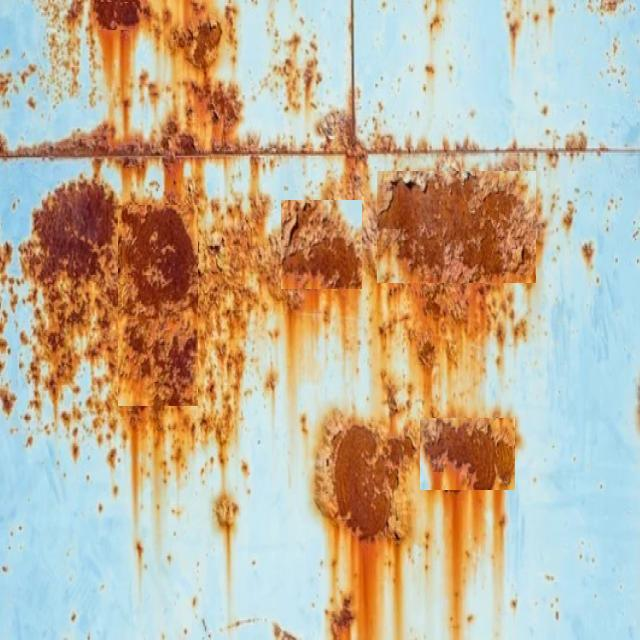Corrosion: (19, 156, 546, 610), (0, 109, 590, 157), (90, 0, 244, 154)
